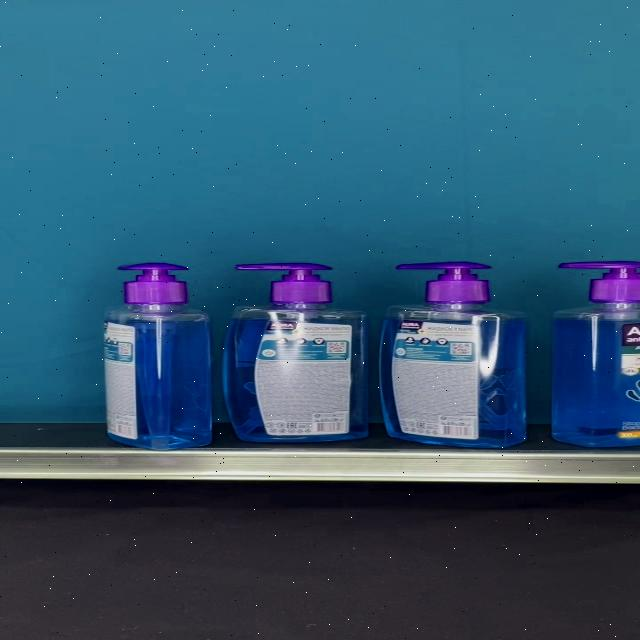Bottle: (378, 262, 527, 449), (222, 263, 369, 444), (103, 262, 213, 450)
Cap: (234, 263, 332, 305), (396, 262, 490, 304), (118, 262, 190, 304)
